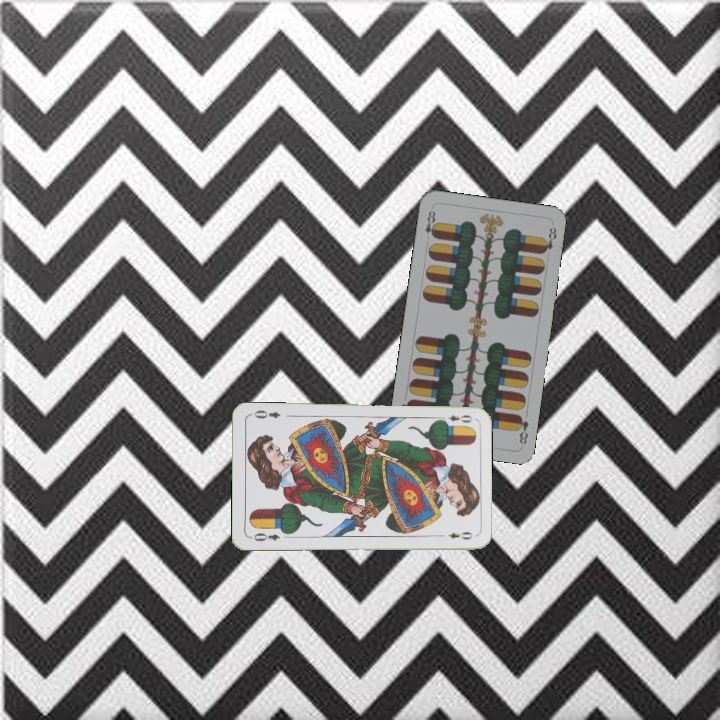E8: (513, 411, 531, 447), (421, 206, 439, 240)
EO: (435, 411, 475, 426), (250, 529, 282, 544)
